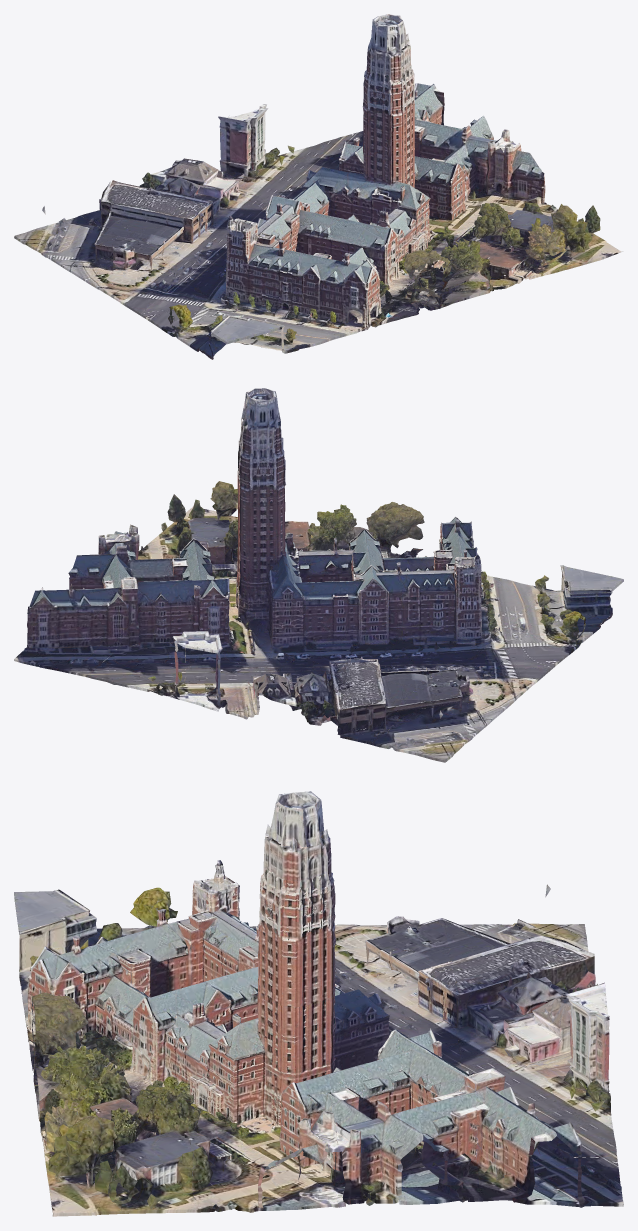
The model's file is zeppos.gltf.
The picture shows the model from 3 angles, top to bottom: view 1: azimuth 30°, elevation 25°; view 2: azimuth 150°, elevation 25°; view 3: azimuth 270°, elevation 25°; orthographic projection. The views are drawn at different scales.
Visible parts, largest first — view 1: mesh_0 (×23), mesh_0_1 (×4); view 2: mesh_0 (×25), mesh_0_1 (×5); view 3: mesh_0 (×24), mesh_0_1 (×5).
Part boxes in pixels (bbox=[...]): mesh_0 (×23): bbox=[14, 14, 622, 359]; mesh_0_1 (×4): bbox=[146, 104, 368, 350]; mesh_0 (×25): bbox=[14, 388, 623, 762]; mesh_0_1 (×5): bbox=[157, 535, 612, 717]; mesh_0 (×24): bbox=[14, 791, 623, 1216]; mesh_0_1 (×5): bbox=[20, 864, 610, 1164].
Bounding box in the file's own units: 0.7225 × 0.357 × 0.6033.
39 materials, 39 textured.
